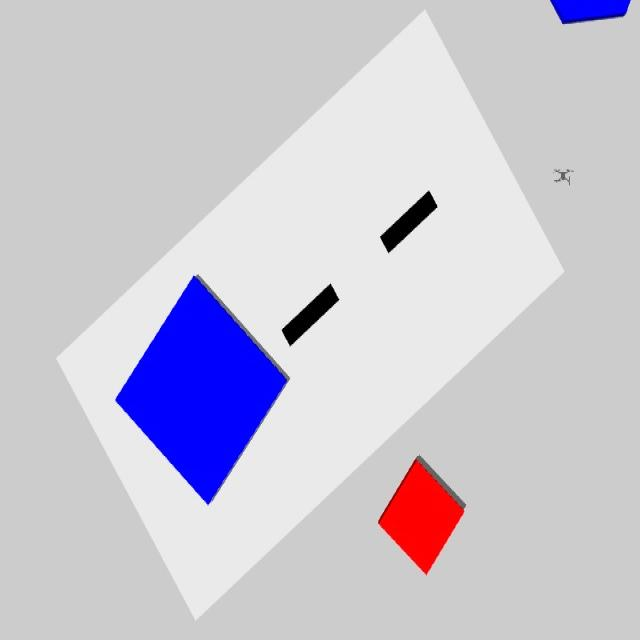blue_square: (117, 272, 288, 504)
red_square: (378, 456, 464, 575)
